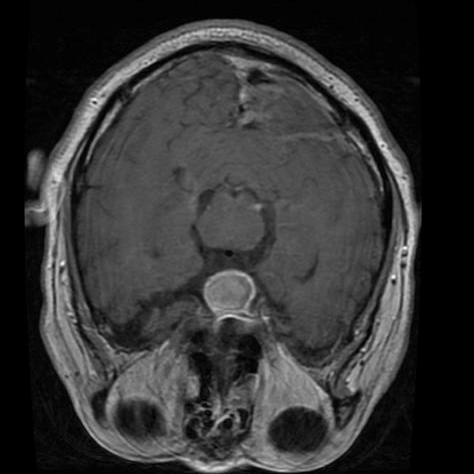Tumour-Pituitary: (194, 264, 274, 328)
